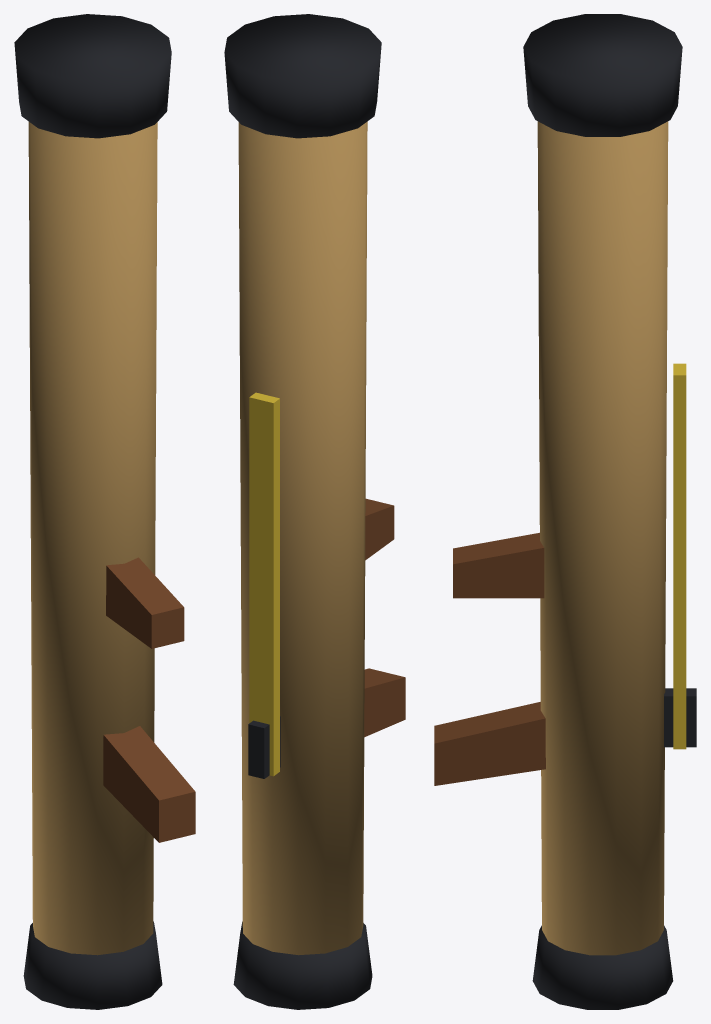
File: stynger.glb
The picture shows the model from 3 angles, left to right: view 1: azimuth 30°, elevation 25°; view 2: azimuth 150°, elevation 25°; view 3: azimuth 270°, elevation 25°; orthographic projection.
Visible parts, largest first — view 1: stynger_v0; view 2: stynger_v0; view 3: stynger_v0.
Part boxes in pixels (box(x1,y1,x2,y2)): stynger_v0: box(14, 14, 195, 1009); stynger_v0: box(224, 14, 405, 1009); stynger_v0: box(434, 14, 696, 1009).
Bounding box in the file's own units: 0.1657 × 1.1 × 0.28.
